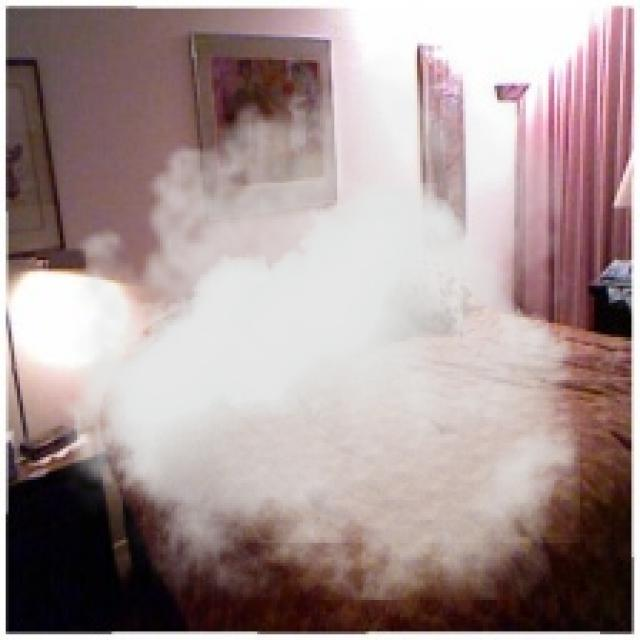smoke: (43, 34, 580, 600)
